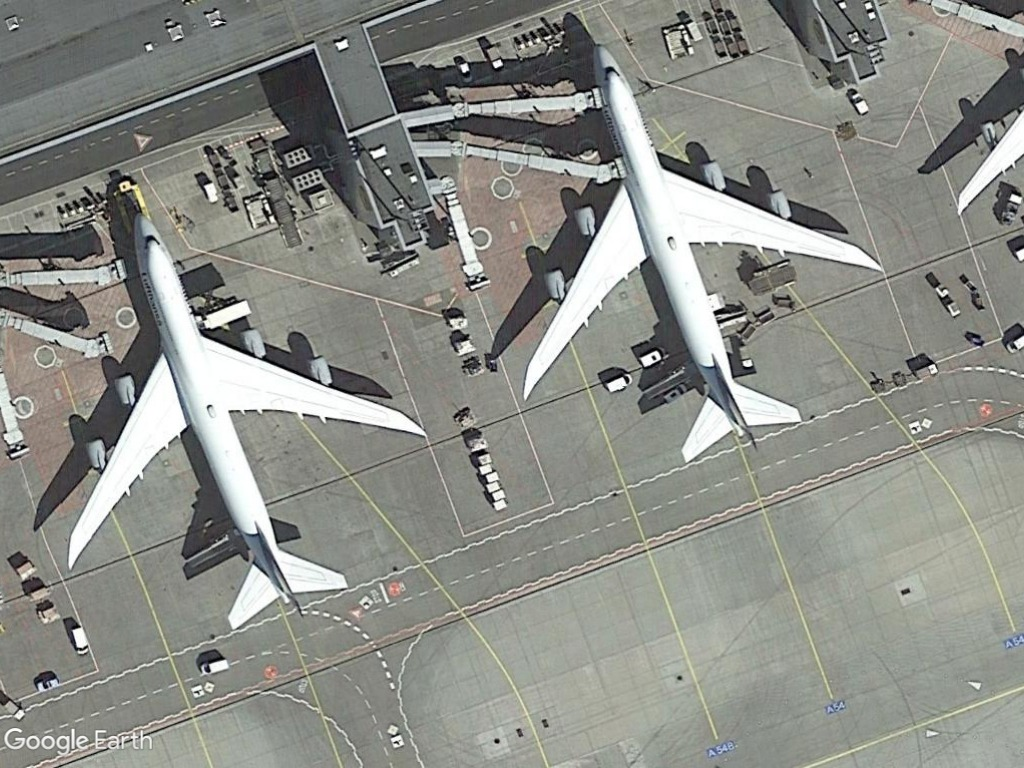airliner: (504, 39, 895, 476), (60, 206, 422, 625)
van: (67, 619, 94, 660), (196, 654, 232, 678)
